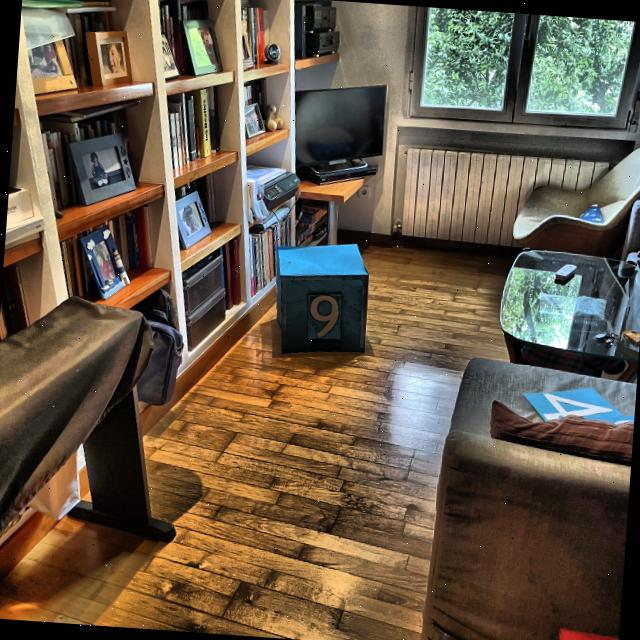blue box: (266, 238, 374, 360)
nine: (304, 292, 342, 340)
